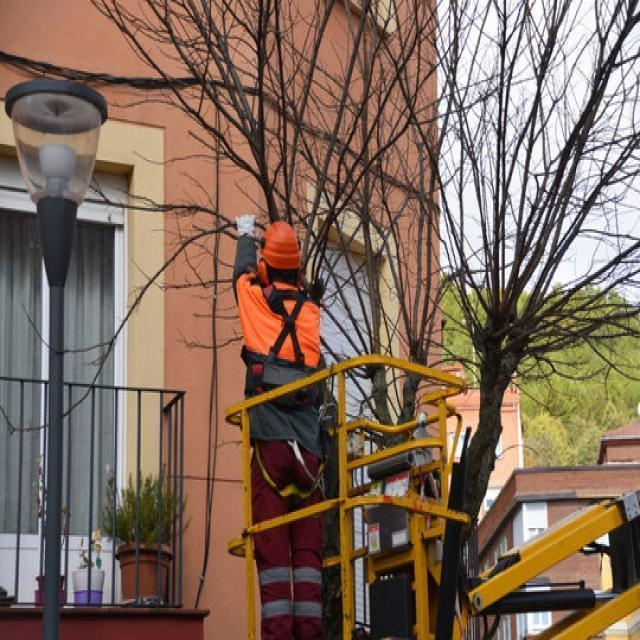Arnes_seguridad: (237, 285, 335, 501)
